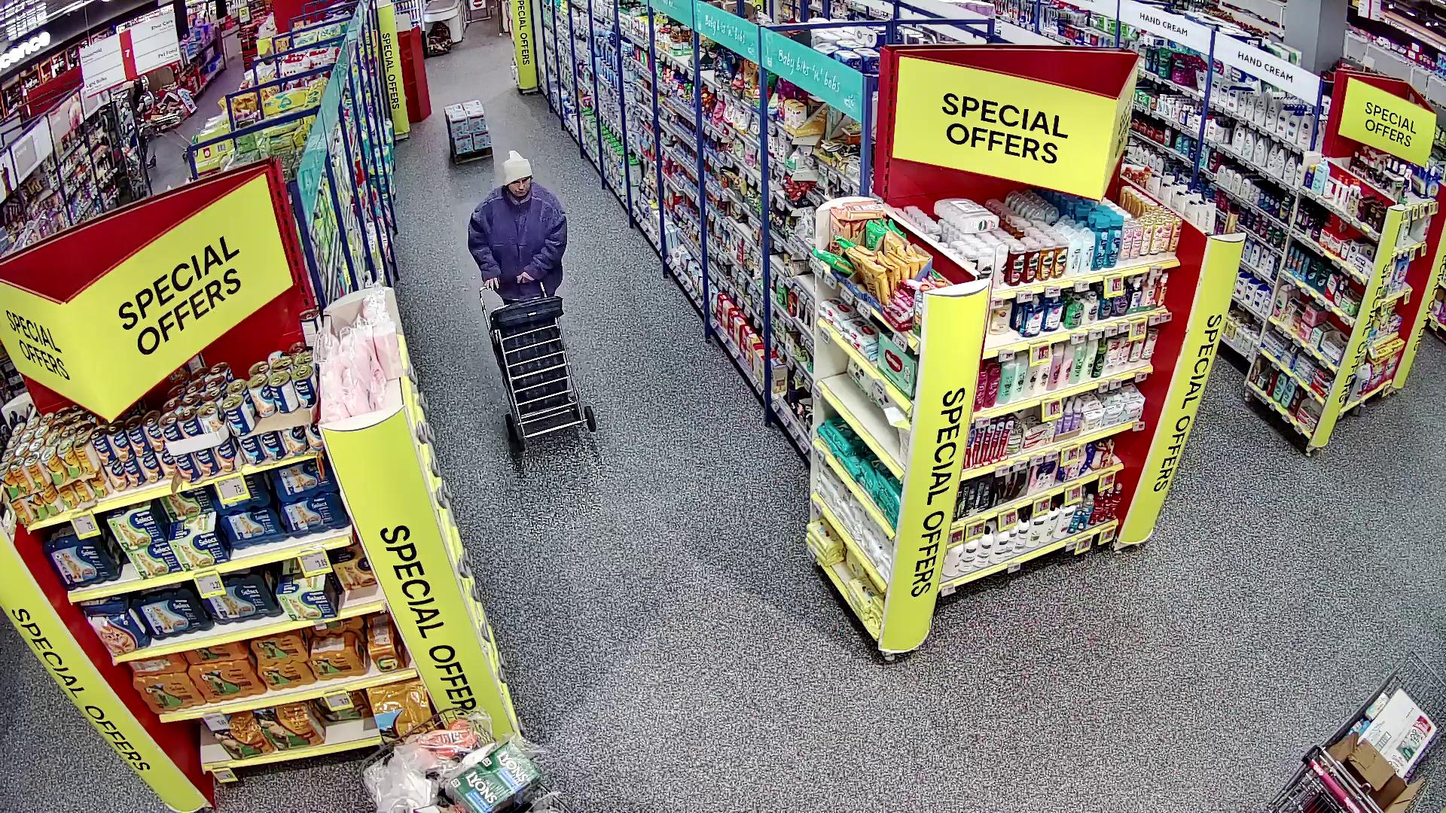filled-trolly: (478, 270, 597, 449)
person: (468, 149, 568, 297)
person-with-filled-basket-trolly: (468, 149, 597, 450)
